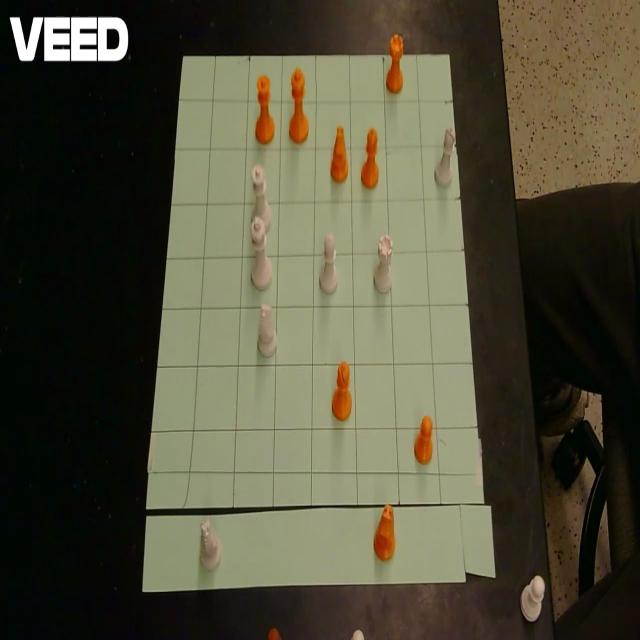orange_bishop: (332, 360, 352, 421), (362, 127, 379, 189)
orange_king: (289, 68, 308, 142)
orange_knight: (374, 503, 396, 561), (330, 125, 348, 183), (267, 628, 282, 640)
orange_pawn: (414, 414, 434, 463)
orange_queen: (255, 74, 275, 144)
orange_rook: (386, 32, 404, 93)
white_bishop: (435, 124, 456, 188), (319, 231, 338, 293)
white_king: (250, 215, 272, 289)
white_knight: (199, 518, 222, 572), (257, 301, 277, 355)
white_pawn: (520, 575, 546, 622), (350, 629, 364, 640)
white_queen: (251, 162, 271, 232)
white_rook: (374, 232, 394, 293)
